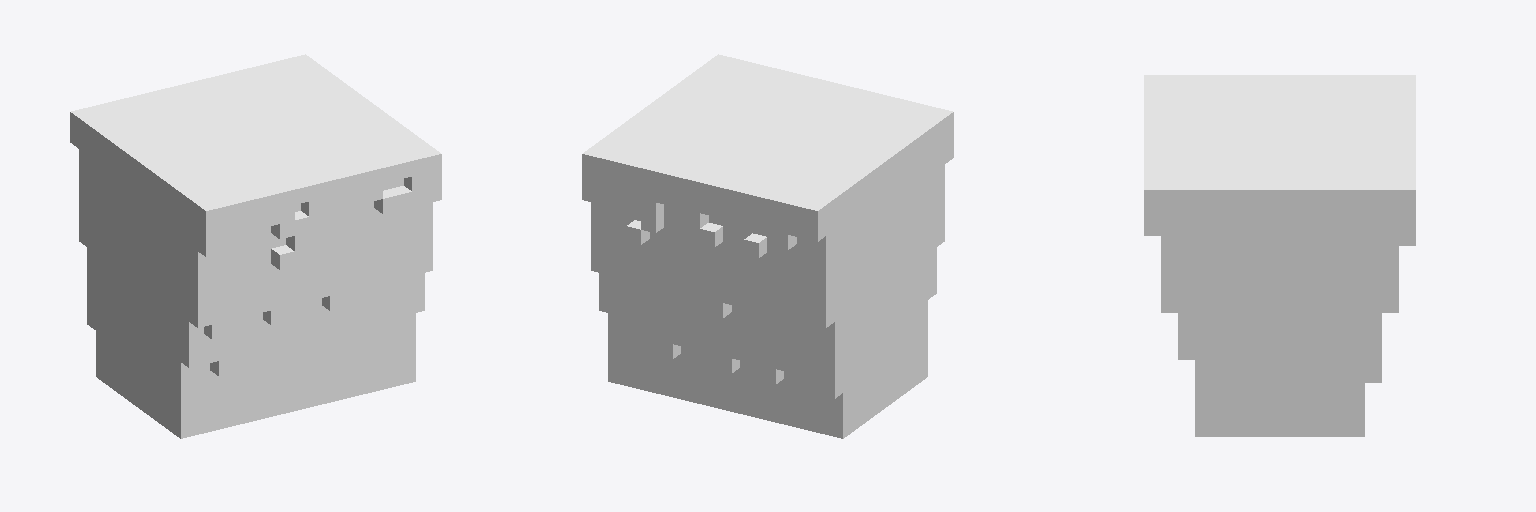
Rendered from WinterGrass-12.obj.
The picture shows the model from 3 angles: view 1: azimuth 30°, elevation 25°; view 2: azimuth 150°, elevation 25°; view 3: azimuth 270°, elevation 25°; orthographic projection.
Parts seen in each view (by area): view 1: object 1; view 2: object 1; view 3: object 1.
Part boxes in pixels (x1,y1,x2,y2): object 1: (70,54,441,438); object 1: (582,54,953,438); object 1: (1144,75,1415,436).
Size of the model in its own units: 1.6 by 1.6 by 1.6.